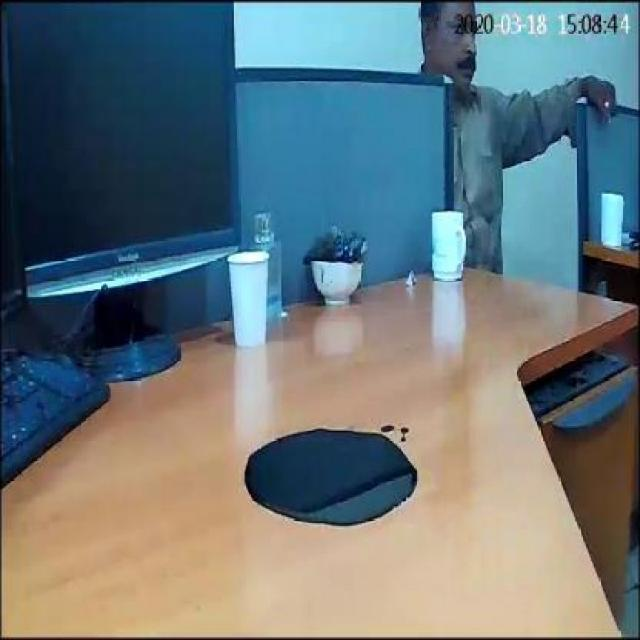spill: (242, 419, 413, 530)
